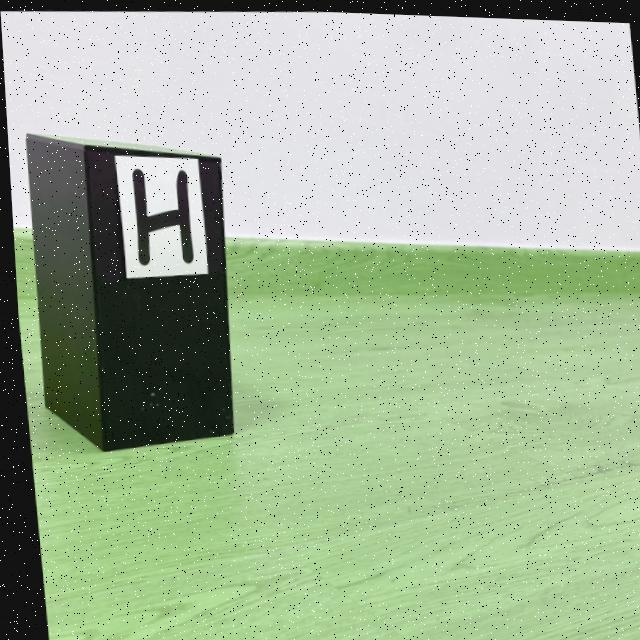H: (130, 167, 190, 264)
